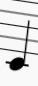LC: (4, 0, 31, 72)
